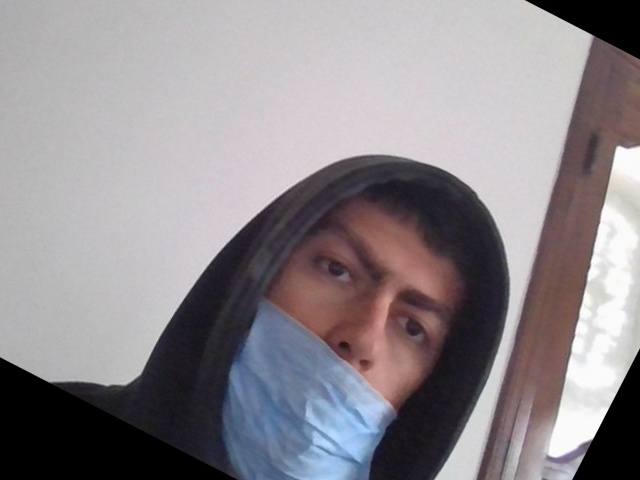mask_weared_incorrect: (224, 189, 462, 477)
